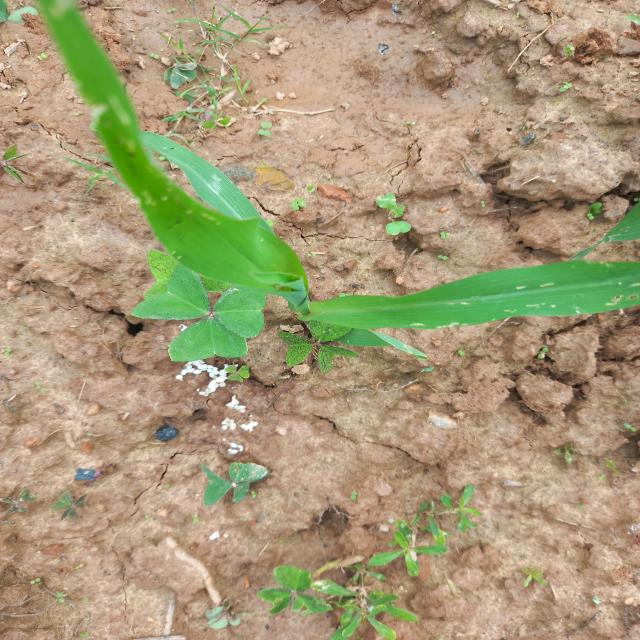maize: (10, 0, 640, 405)
weed: (124, 5, 309, 130), (120, 258, 274, 364), (248, 556, 430, 639), (362, 479, 488, 578), (184, 447, 273, 515), (356, 190, 431, 250), (284, 309, 364, 362)
